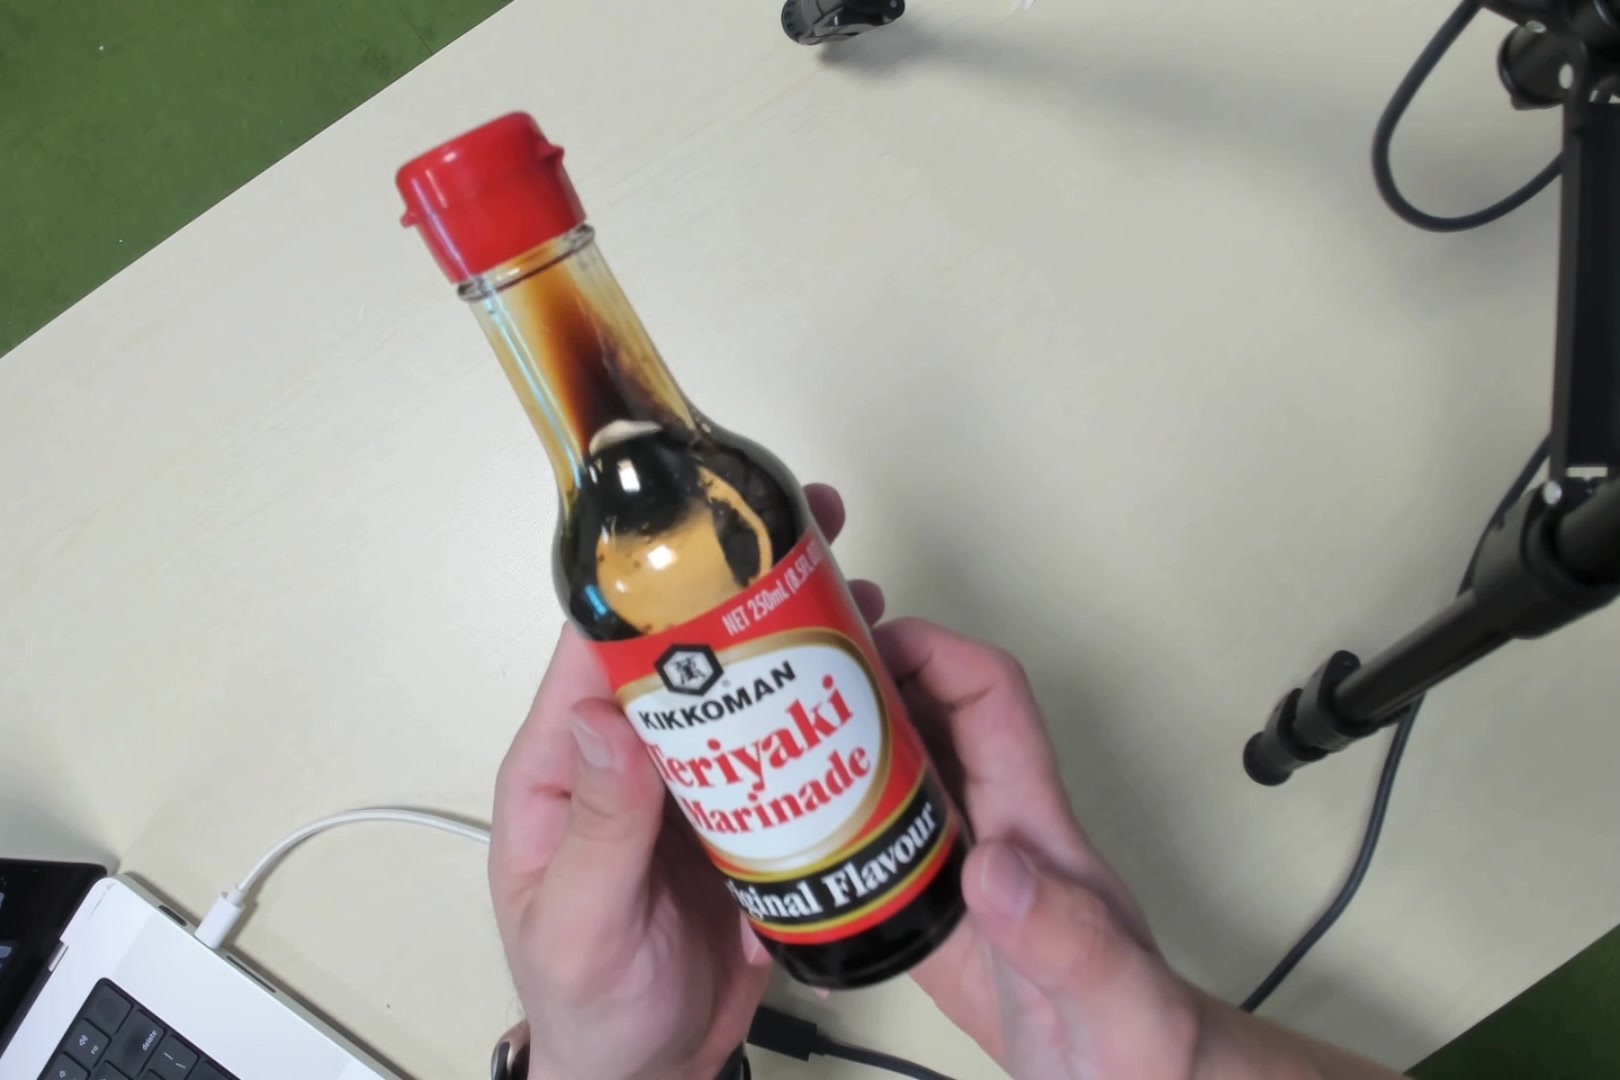OtherSauceDressingSoupbasePaste_200-299g_NonHalal_NonHealthy: (460, 149, 961, 953)
